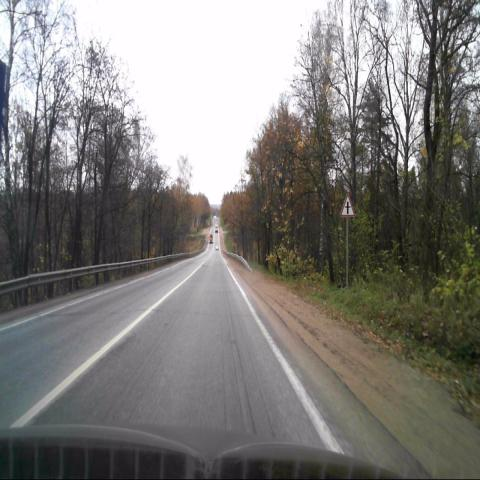2_3: (341, 191, 354, 217)
